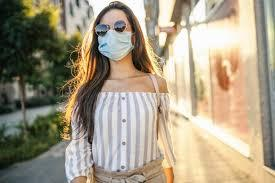mask: (95, 28, 140, 63)
sunglasses: (93, 20, 131, 37)
